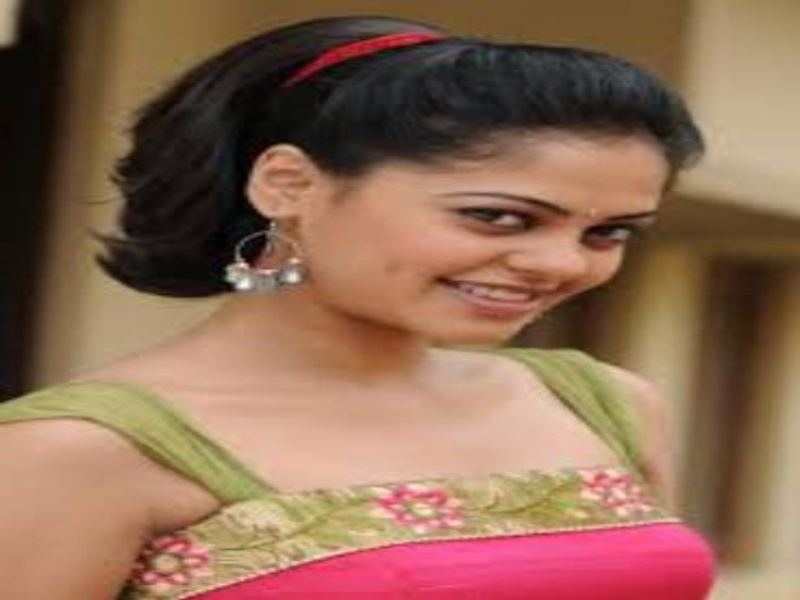TsisyArotava: (298, 18, 706, 391)
